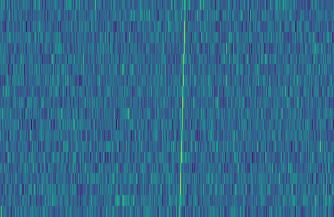signal: (174, 0, 189, 217)
